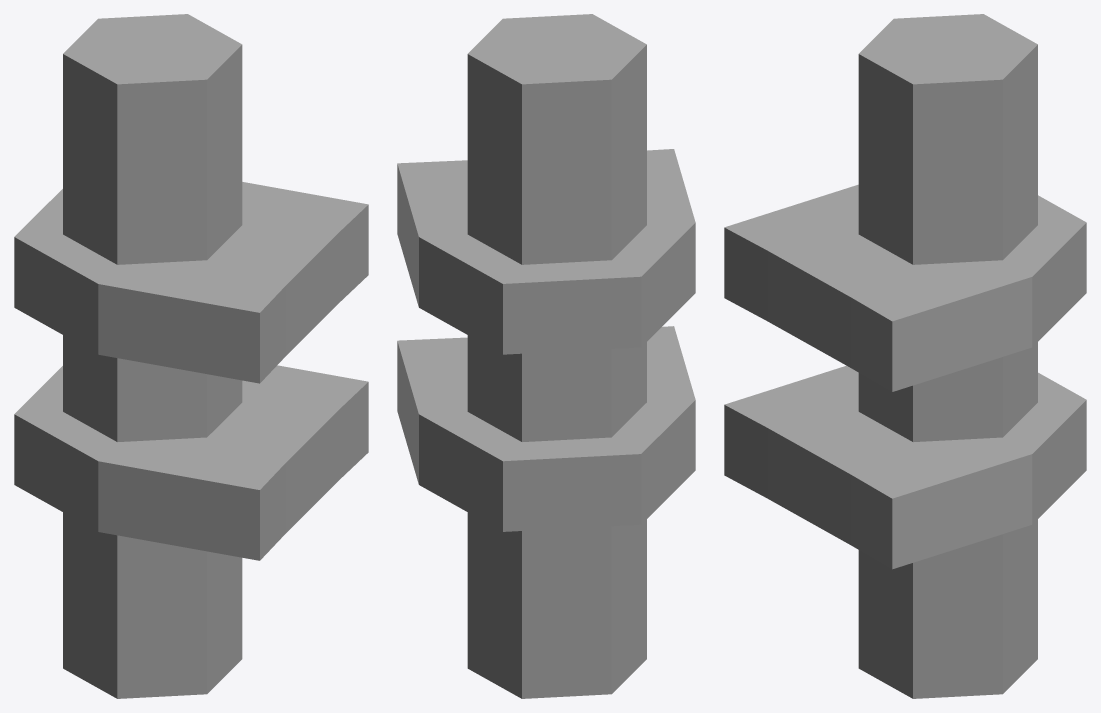
File: Building Pipe 2.fbx
3 views of the same model, side by side, from view 1: azimuth 30°, elevation 25°; view 2: azimuth 150°, elevation 25°; view 3: azimuth 270°, elevation 25° (orthographic).
Parts seen in each view (by area): view 1: Building Pipe 2; view 2: Building Pipe 2; view 3: Building Pipe 2.
Boxes of the visible parts, x1,y1,x2,y2 form: Building Pipe 2: (14, 14, 368, 698); Building Pipe 2: (397, 14, 695, 698); Building Pipe 2: (724, 14, 1086, 698).
Bounding box in the file's own units: 53.82 × 56.48 × 106.
